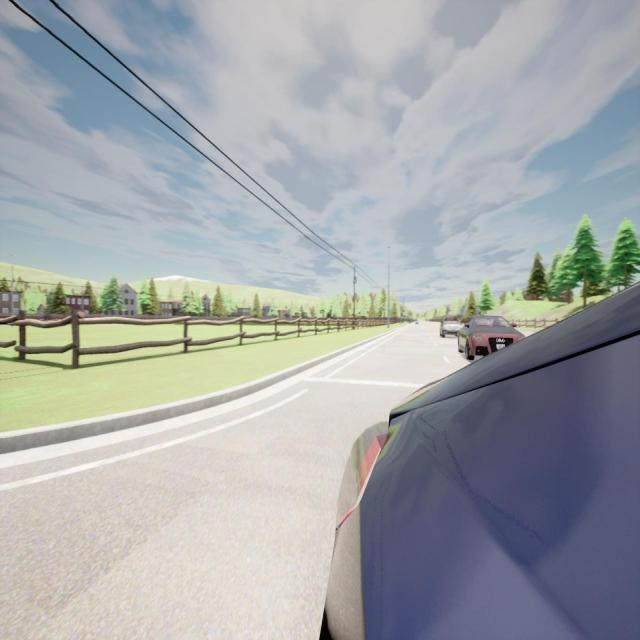Vehicle: (326, 283, 640, 638), (458, 315, 520, 360), (439, 314, 462, 338), (414, 320, 420, 325)
